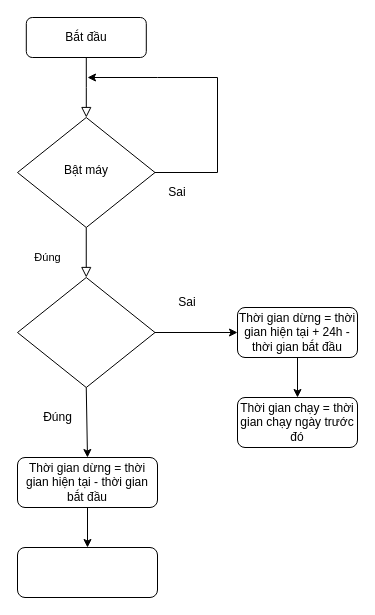
This 375x615 diagram has some shape labels left out. Each missing label, with the centre of its shape:
Thời gian > thời gian bắt đầu: the point at 85,332
Thời gian chạy = thời gian chạy ngày hiện tạii: the point at 87,572
